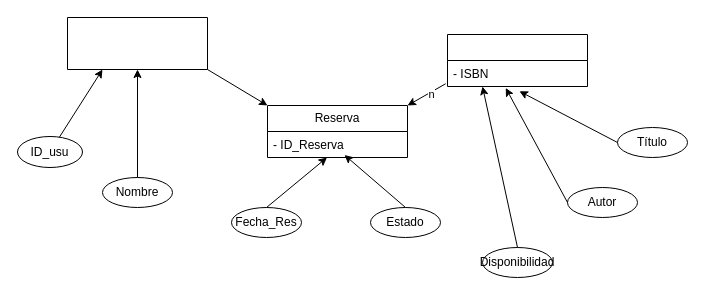
The diagram is 705 pixels wide and 295 high, and some of its shapes have lost their labels. The shapes that lost their labels are listed below. From the top down, each one's box as (x1, y1, x2, y2) in pixels, then its label:
(66, 16, 208, 70): Usuario
(446, 34, 588, 86): Libro
